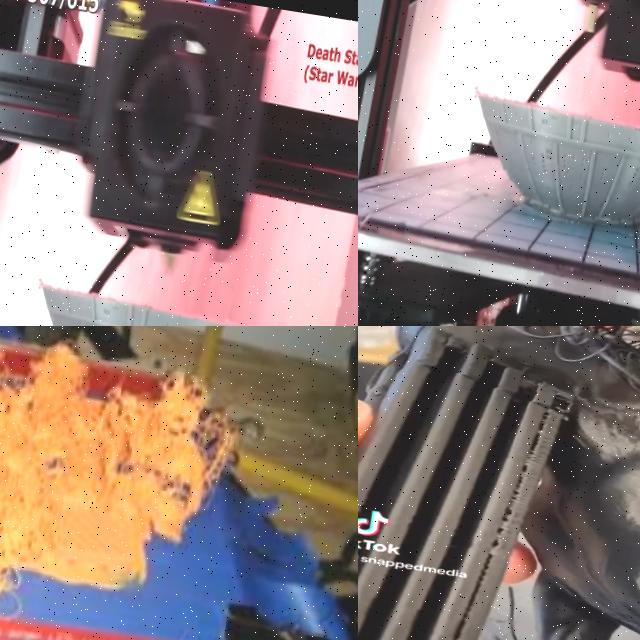spaghetti: (0, 332, 258, 624), (431, 326, 640, 452)
